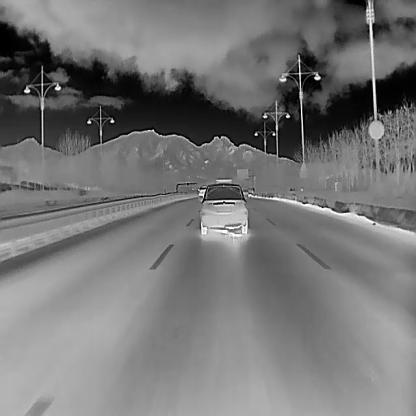car: (198, 181, 247, 234), (196, 183, 207, 197)
